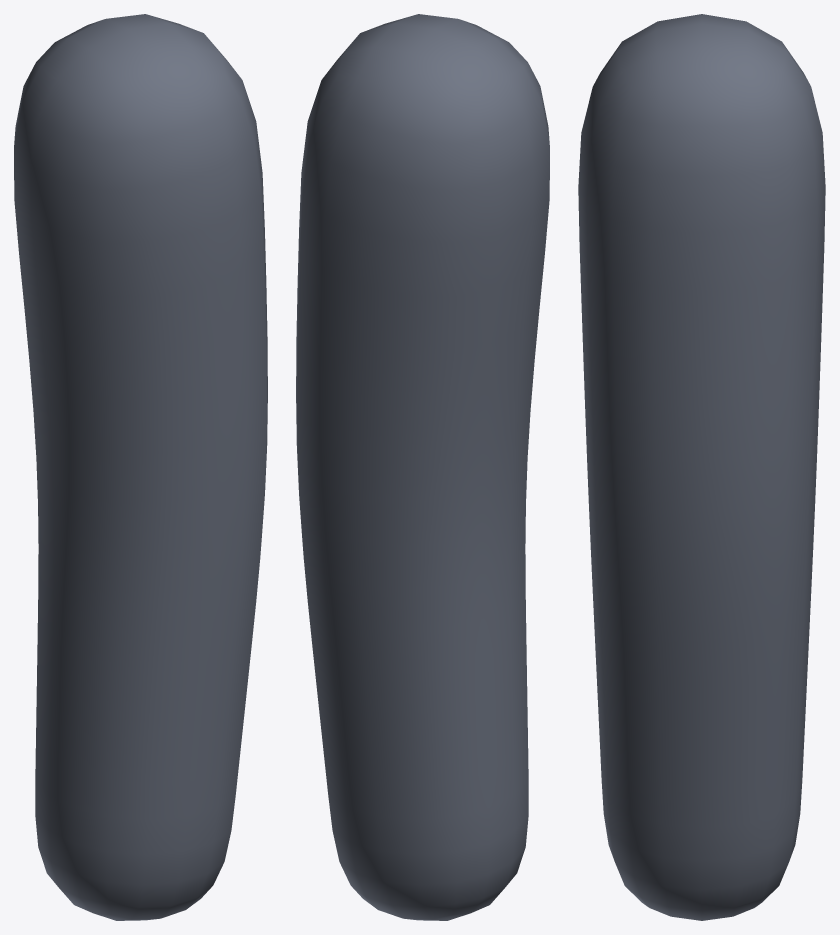
File: SM_Faceling_Thigh.fbx
The picture shows the model from 3 angles, left to right: view 1: azimuth 30°, elevation 25°; view 2: azimuth 150°, elevation 25°; view 3: azimuth 270°, elevation 25°; orthographic projection.
Visible parts, largest first — view 1: SM_Faceling_Thigh; view 2: SM_Faceling_Thigh; view 3: SM_Faceling_Thigh.
Part boxes in pixels (left/top/right/bottom): SM_Faceling_Thigh: left=14, top=14, right=267, bottom=920; SM_Faceling_Thigh: left=296, top=14, right=549, bottom=920; SM_Faceling_Thigh: left=578, top=14, right=825, bottom=920.
Bounding box in the file's own units: 11.65 × 44.47 × 11.3.
